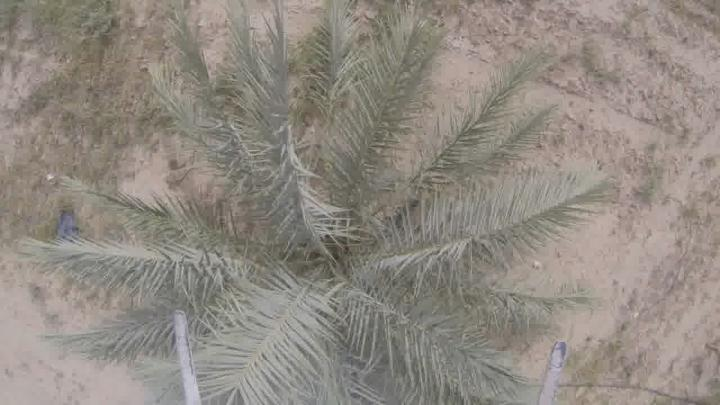Date-Palm-Crown: (203, 139, 467, 394)
